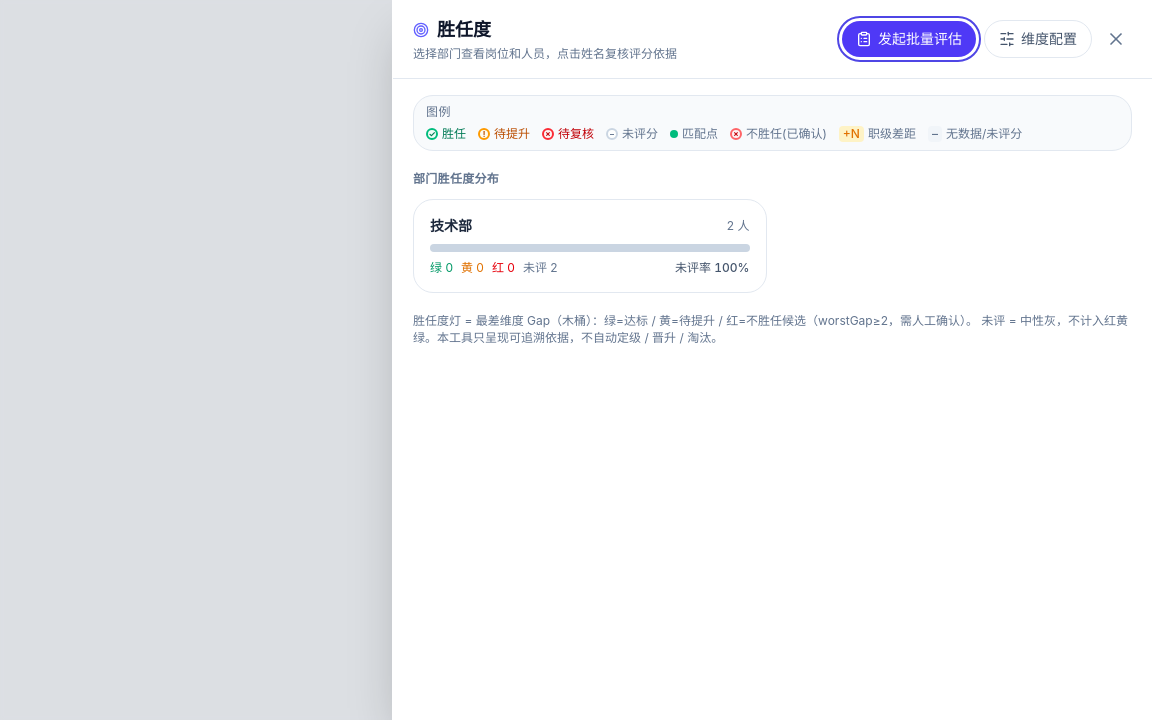
it: 体验断点回归 › 汇总下钻包含子部门员工，未评岗位不显示无胜任者
The image size is (1152, 720).
Click the button "技术部 2 人 绿 0 黄 0 红 0 未评 2 未评率 100%".
click(590, 246)  # box [413,199,766,293]
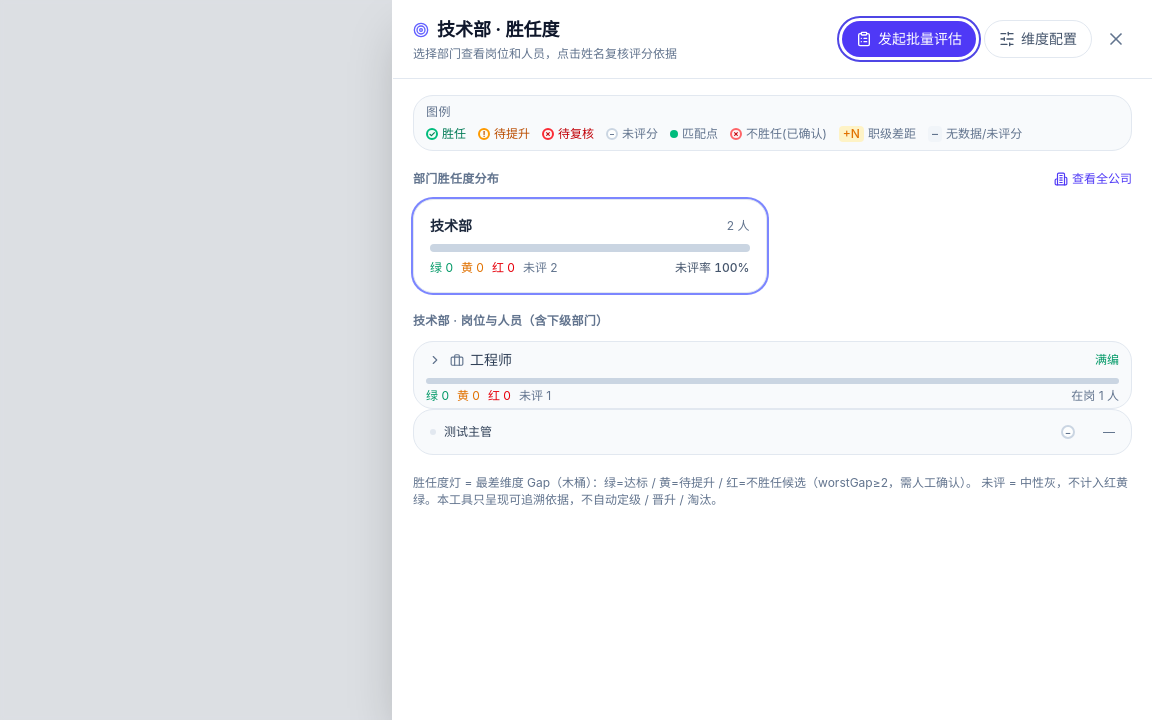
Check: the text "无胜任者" is not shown
Check: the text "工程师" is shown, box [470,351,512,368]
Click the button titled "展开员工".
click(435, 360)  # box [426,351,444,369]
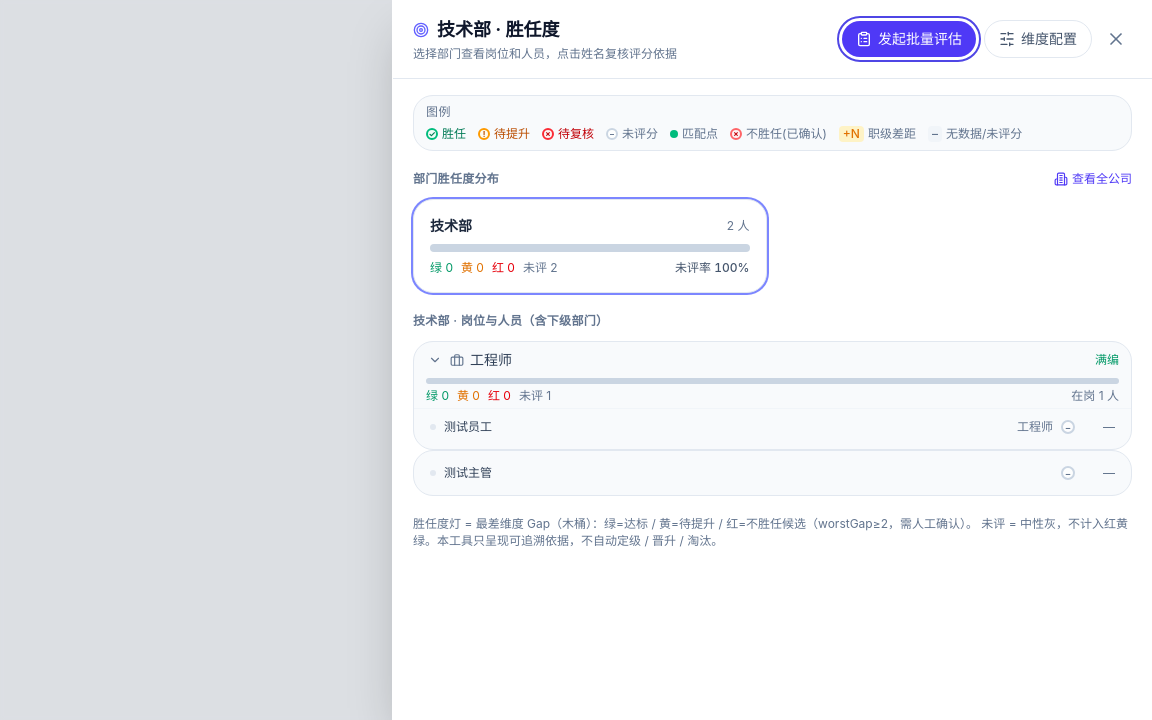
Check: the button named "查看 测试主管 的胜任度详情" is shown, box [430,465,1115,480]
Check: the text "测试员工" is shown, box [444,419,492,434]
